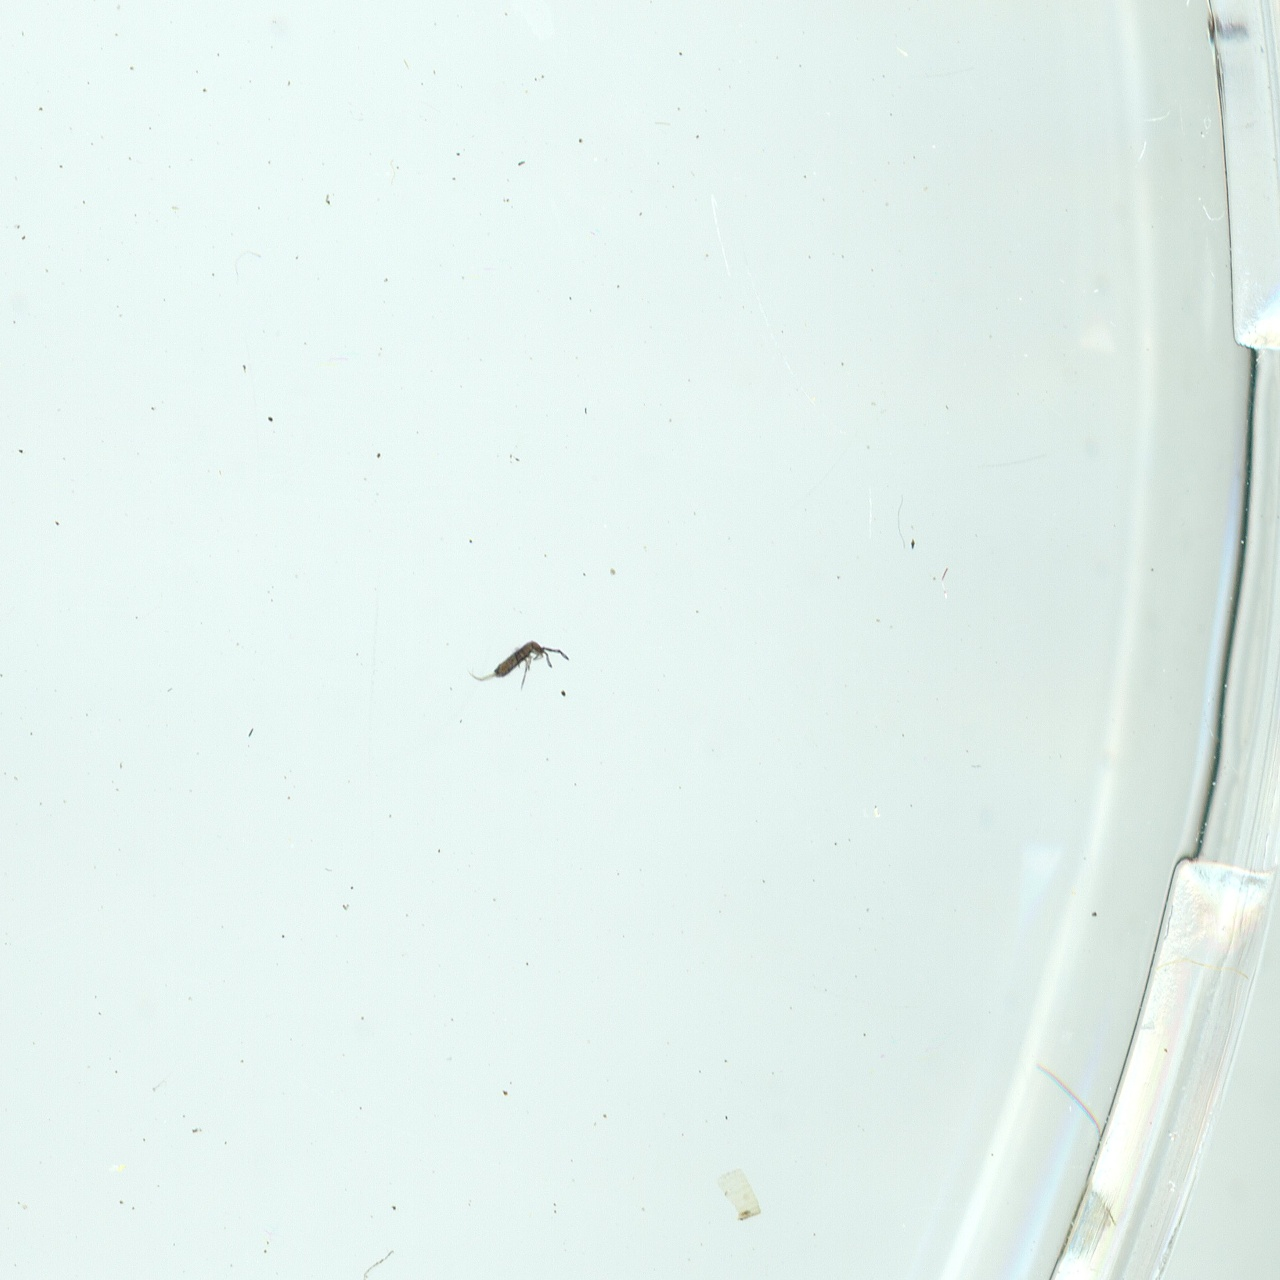arthropod: (465, 638, 572, 695)
